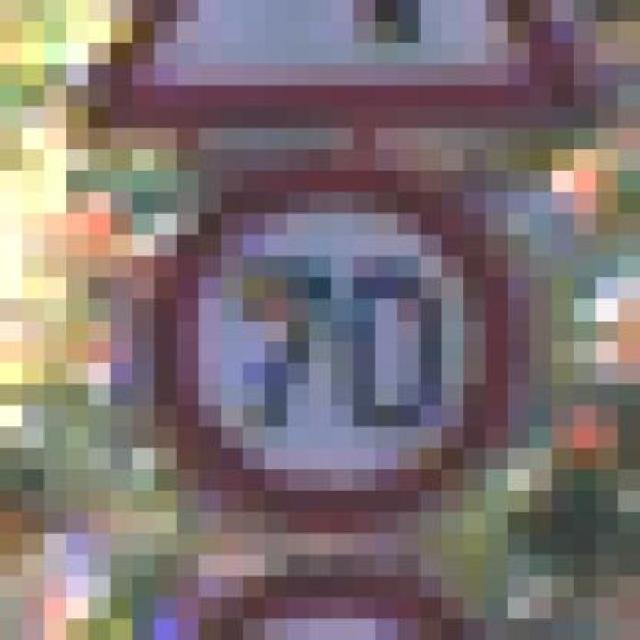forb_speed_over_70: (150, 156, 522, 527)
